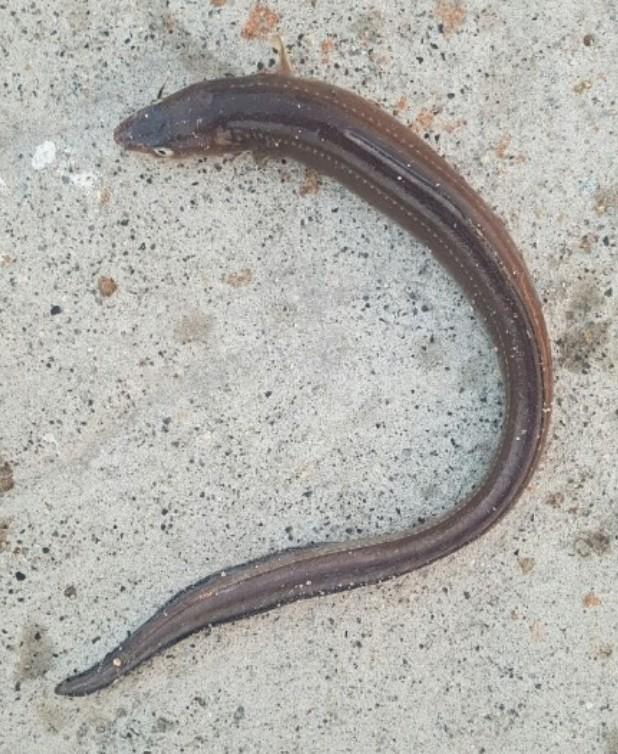fish: (57, 74, 552, 696)
